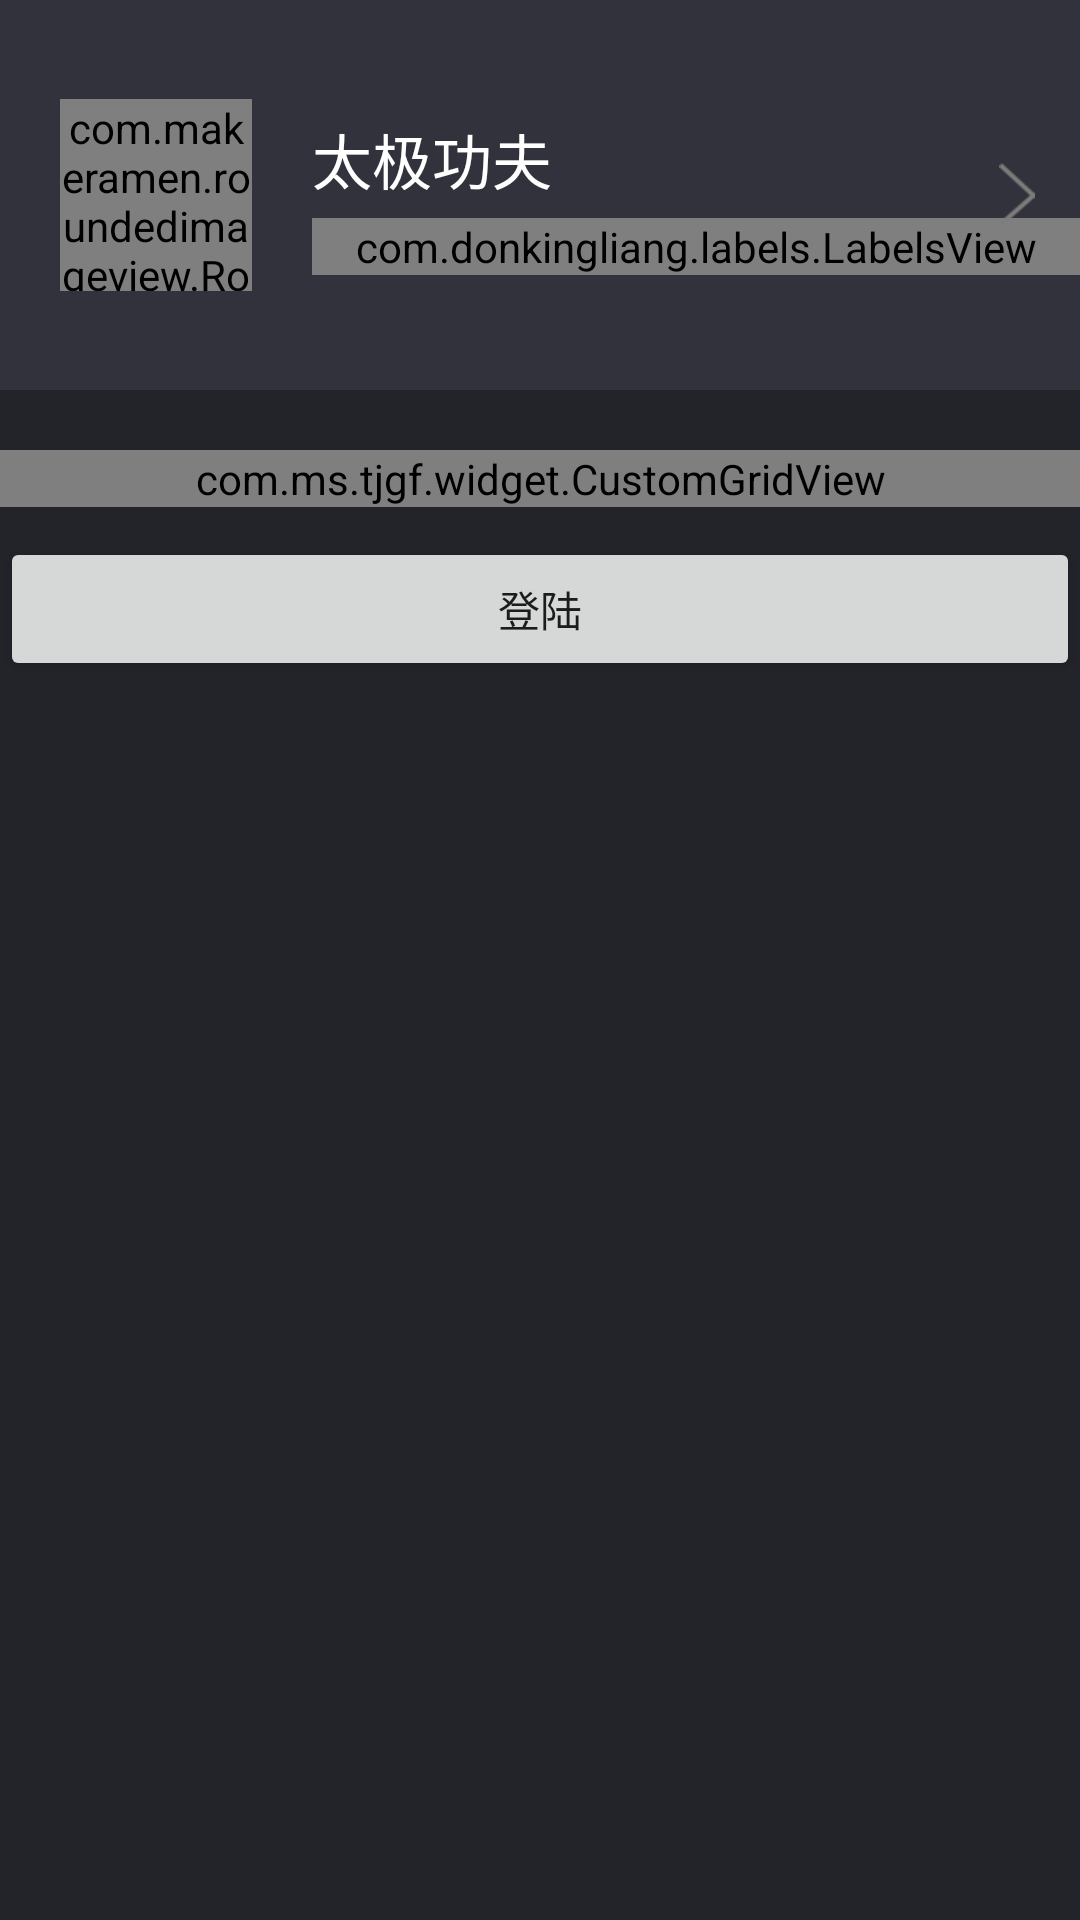

Where icons sit on this 1080×1920 app screen, as Rect(x1, y1, x2, y2):
right: Rect(999, 164, 1035, 228)
